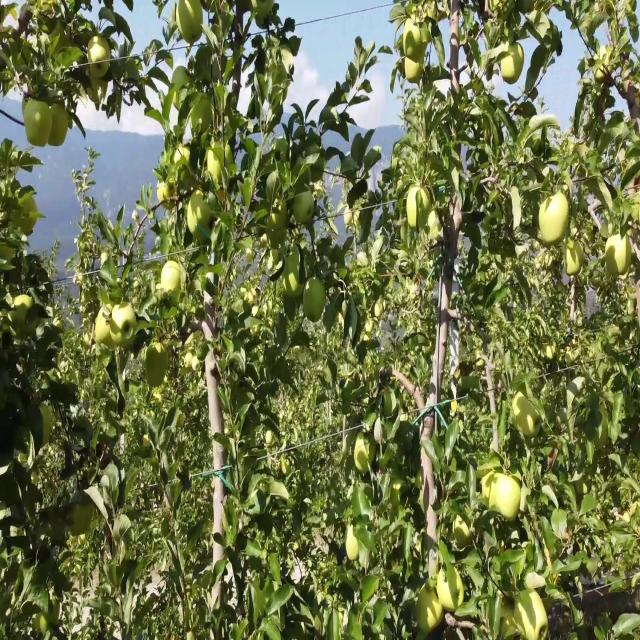apple: (540, 191, 571, 247), (188, 191, 213, 247), (176, 0, 206, 46), (520, 590, 548, 639), (24, 99, 51, 149), (496, 476, 522, 524), (512, 398, 541, 441), (144, 341, 171, 386), (416, 590, 444, 633), (408, 184, 432, 231), (304, 277, 328, 324), (604, 234, 629, 279), (68, 497, 96, 535), (500, 42, 524, 85), (112, 305, 136, 348), (48, 106, 71, 149), (160, 263, 183, 306), (404, 21, 430, 59), (88, 35, 112, 76), (292, 191, 316, 228), (440, 575, 464, 612), (356, 433, 377, 475), (12, 298, 33, 338), (500, 597, 519, 639), (20, 199, 40, 236), (484, 469, 501, 512), (516, 412, 541, 441), (564, 241, 584, 277), (88, 49, 112, 78), (284, 270, 305, 302), (96, 312, 115, 347), (440, 577, 460, 610), (404, 56, 425, 85), (500, 611, 520, 639), (424, 213, 442, 244), (120, 319, 138, 350), (88, 78, 107, 107), (96, 319, 115, 348), (456, 519, 473, 549), (268, 227, 288, 251), (0, 241, 16, 267), (113, 305, 122, 347), (272, 206, 289, 228), (348, 533, 360, 562), (36, 611, 48, 636), (112, 56, 124, 80), (544, 341, 557, 363), (100, 298, 114, 318), (160, 184, 171, 206), (424, 7, 439, 23), (440, 7, 450, 21), (248, 248, 256, 263)
